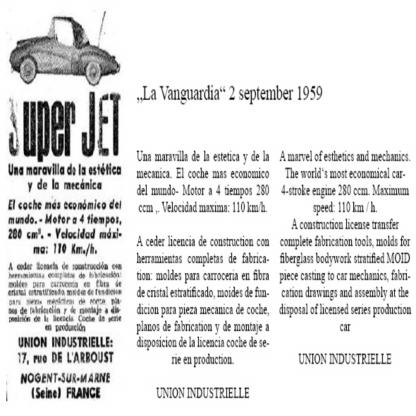Car: (10, 10, 120, 86)
